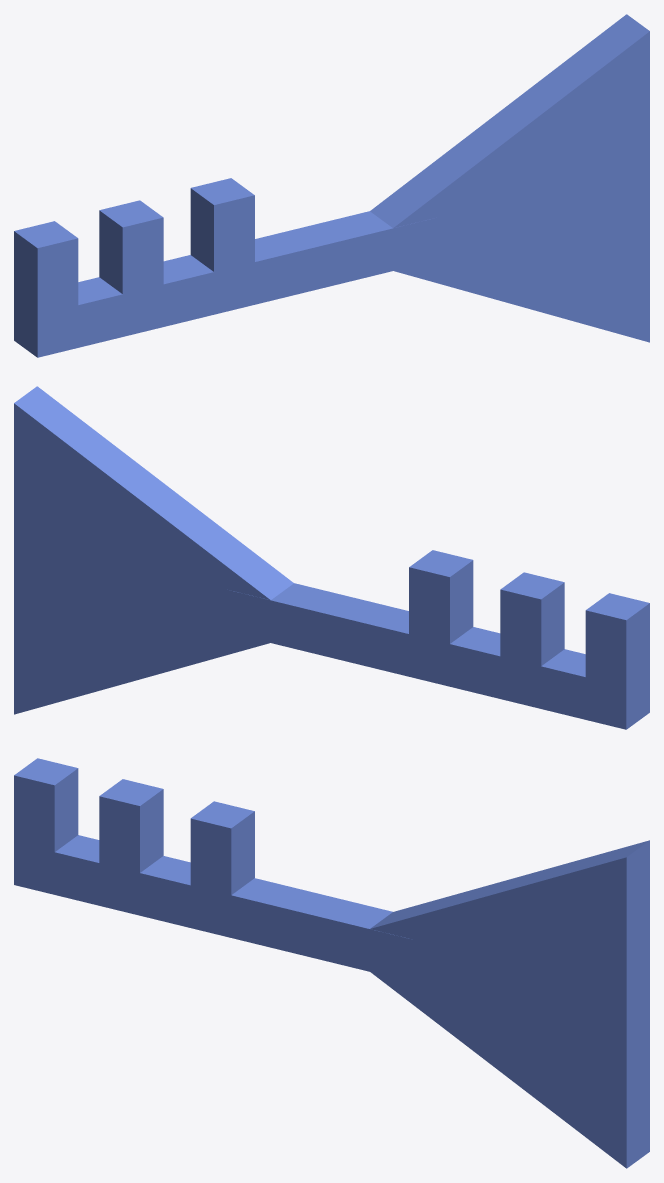
The model's file is Key_Triangle_C.fbx.
The picture shows the model from 3 angles, top to bottom: view 1: azimuth 30°, elevation 25°; view 2: azimuth 150°, elevation 25°; view 3: azimuth 330°, elevation 25°; orthographic projection.
Visible parts, largest first — view 1: Cube.004, Cube.003, Cube, Cube.001, Cube.002; view 2: Cube.004, Cube.003, Cube, Cube.001, Cube.002; view 3: Cube.004, Cube.003, Cube.002, Cube.001, Cube.
Boxes of the visible parts, bbox=[...] form: Cube.004: bbox=[370, 14, 649, 342]; Cube.003: bbox=[53, 211, 436, 353]; Cube: bbox=[14, 221, 78, 357]; Cube.001: bbox=[99, 200, 163, 336]; Cube.002: bbox=[190, 178, 254, 314]; Cube.004: bbox=[14, 386, 293, 714]; Cube.003: bbox=[227, 583, 585, 719]; Cube: bbox=[585, 593, 649, 729]; Cube.001: bbox=[500, 572, 564, 708]; Cube.002: bbox=[409, 550, 473, 643]; Cube.004: bbox=[370, 840, 649, 1168]; Cube.003: bbox=[30, 835, 413, 982]; Cube.002: bbox=[190, 801, 254, 937]; Cube.001: bbox=[99, 779, 163, 915]; Cube: bbox=[14, 758, 78, 894].
Bounding box in the file's own units: 278 × 135 × 18.54.
